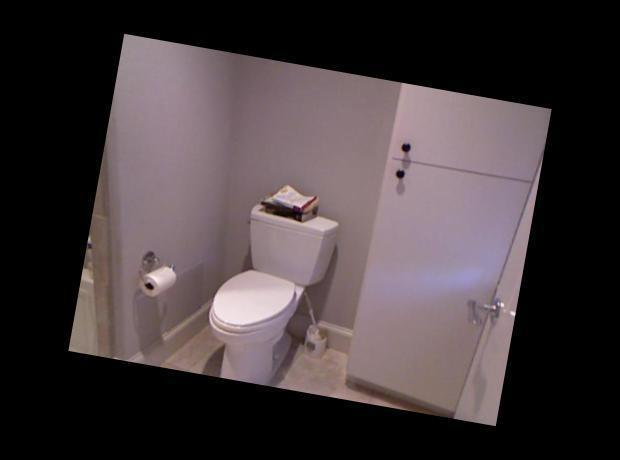Armario: (344, 84, 547, 425)
Sanitario: (198, 195, 339, 391)
